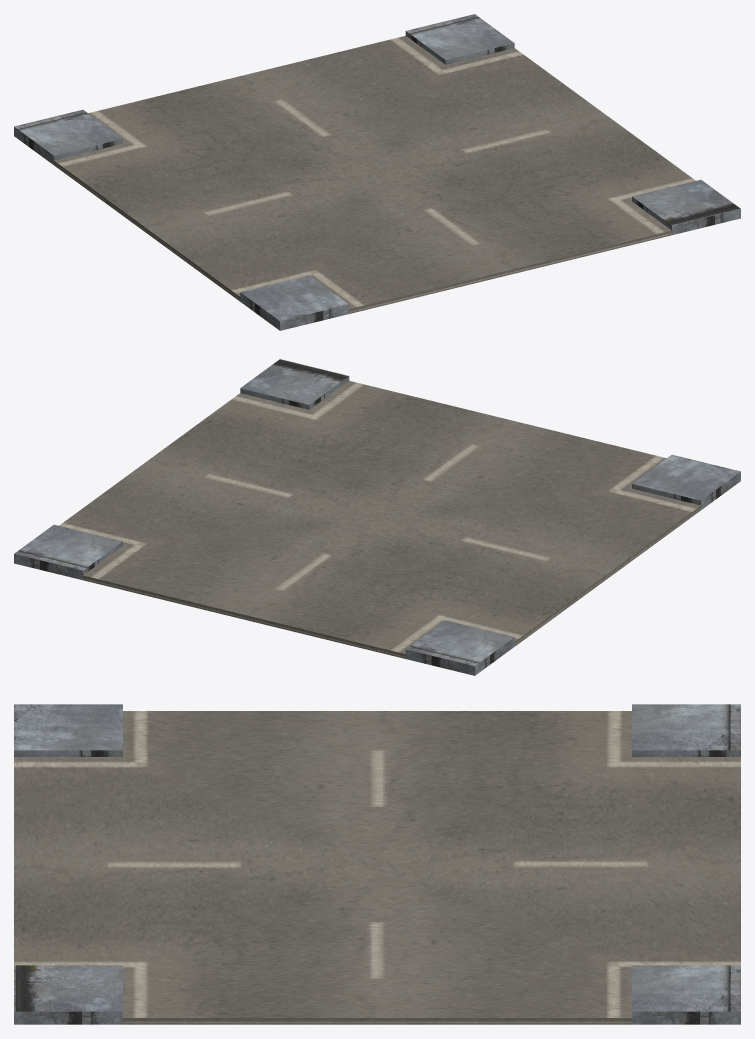
Rendered from Urban_Road4Junction_Model.fbx.
3 renders of one model, top to bottom at view 1: azimuth 30°, elevation 25°; view 2: azimuth 150°, elevation 25°; view 3: azimuth 270°, elevation 25°, orthographic. The views are drawn at different scales.
Parts seen in each view (by area): view 1: Urban_Road4Junction_Mesh; view 2: Urban_Road4Junction_Mesh; view 3: Urban_Road4Junction_Mesh.
Boxes of the visible parts, bbox=[...] form: Urban_Road4Junction_Mesh: bbox=[14, 14, 740, 330]; Urban_Road4Junction_Mesh: bbox=[14, 359, 740, 675]; Urban_Road4Junction_Mesh: bbox=[14, 704, 740, 1024].
Bounding box in the file's own units: 16 × 0.32 × 16.
